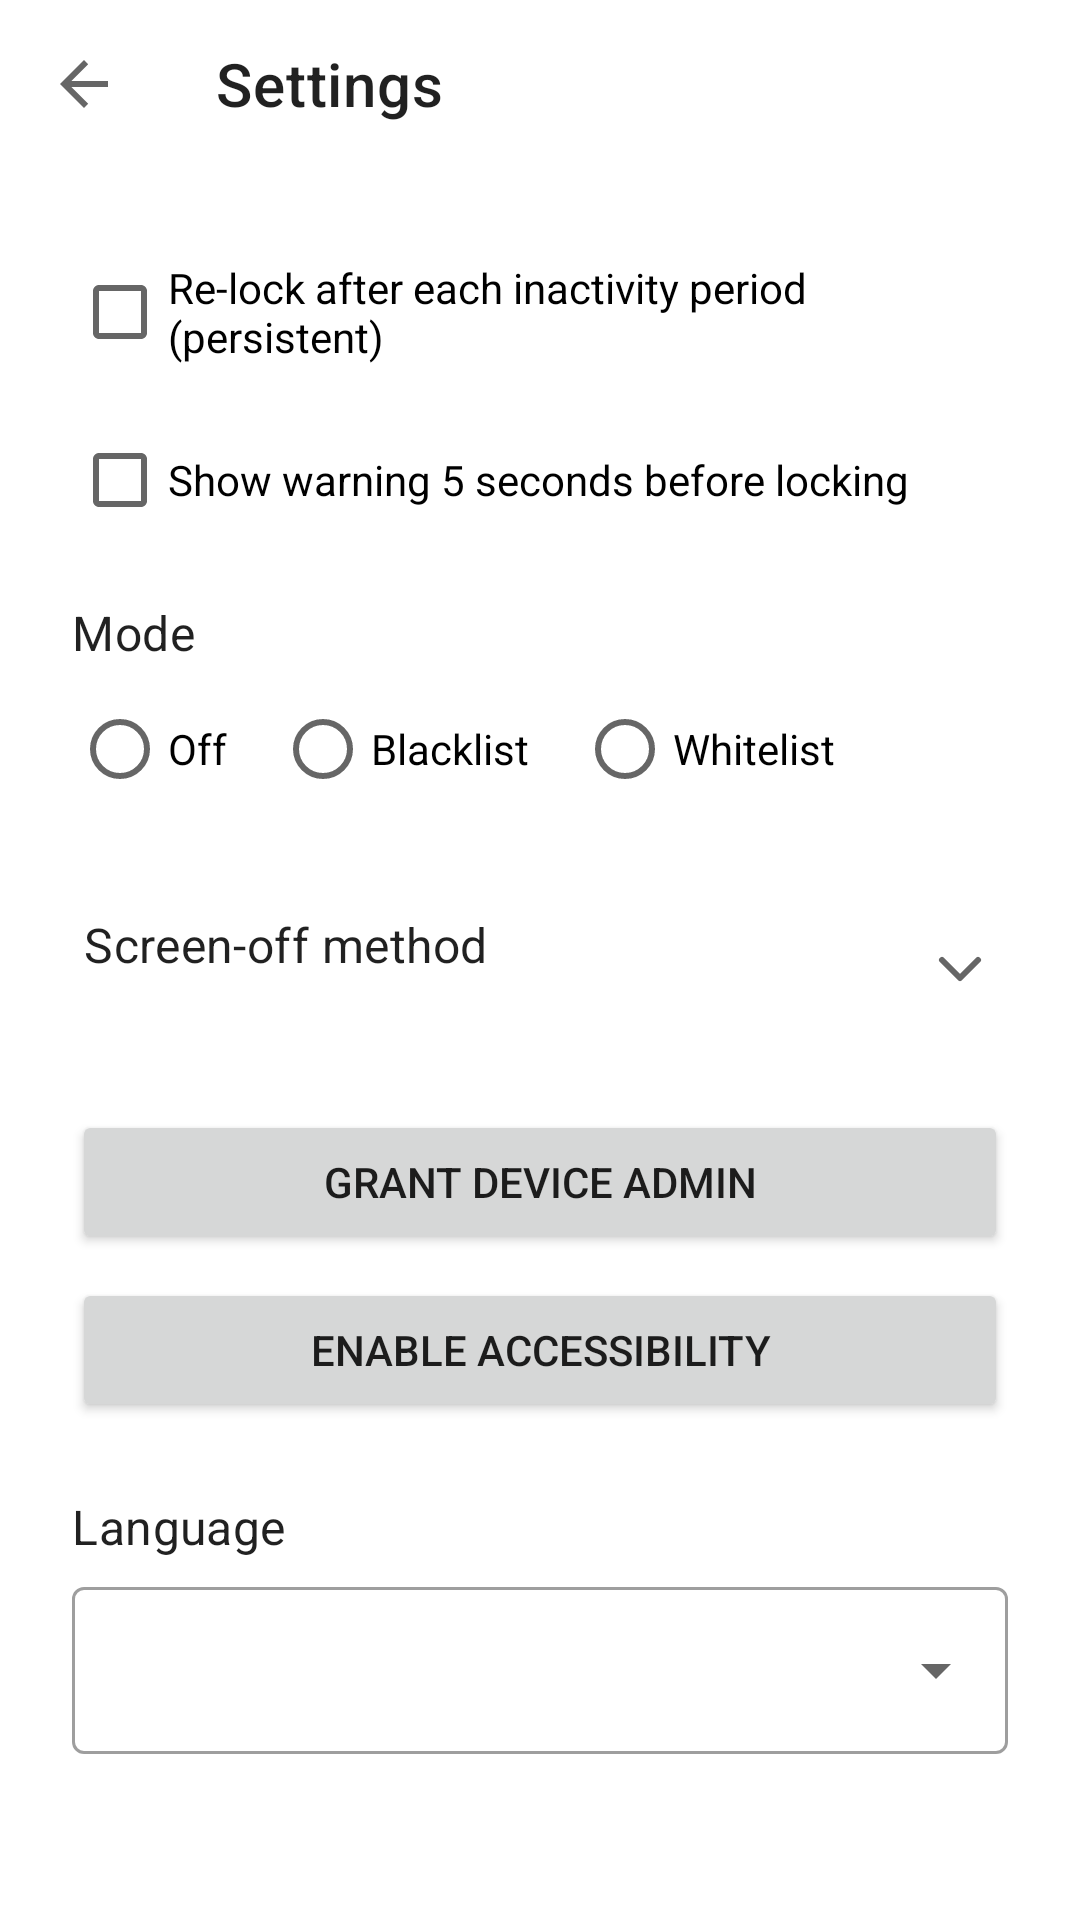

Screen size 1080x1920. Icon name, then its box in pixels as [left=x1, top=y1, right=x2, bottom=y2]:
chevron down: [left=939, top=957, right=981, bottom=981]
